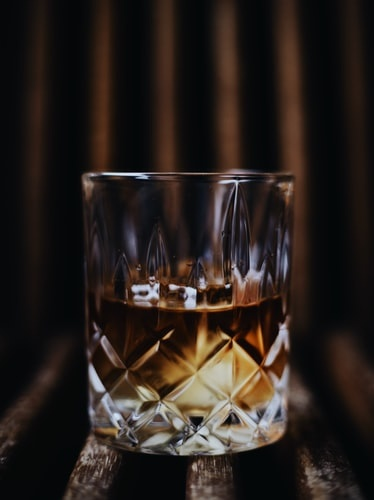whiskey: (77, 162, 307, 438)
